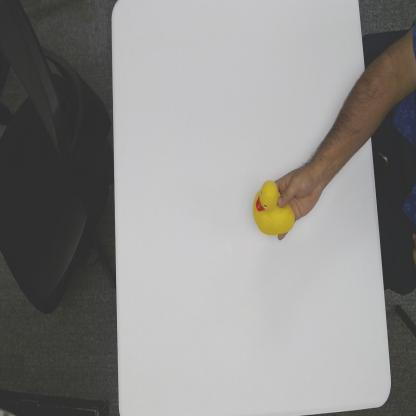Arm: (308, 75, 375, 190)
Duck: (254, 179, 296, 238)
Hand: (273, 169, 316, 243)
